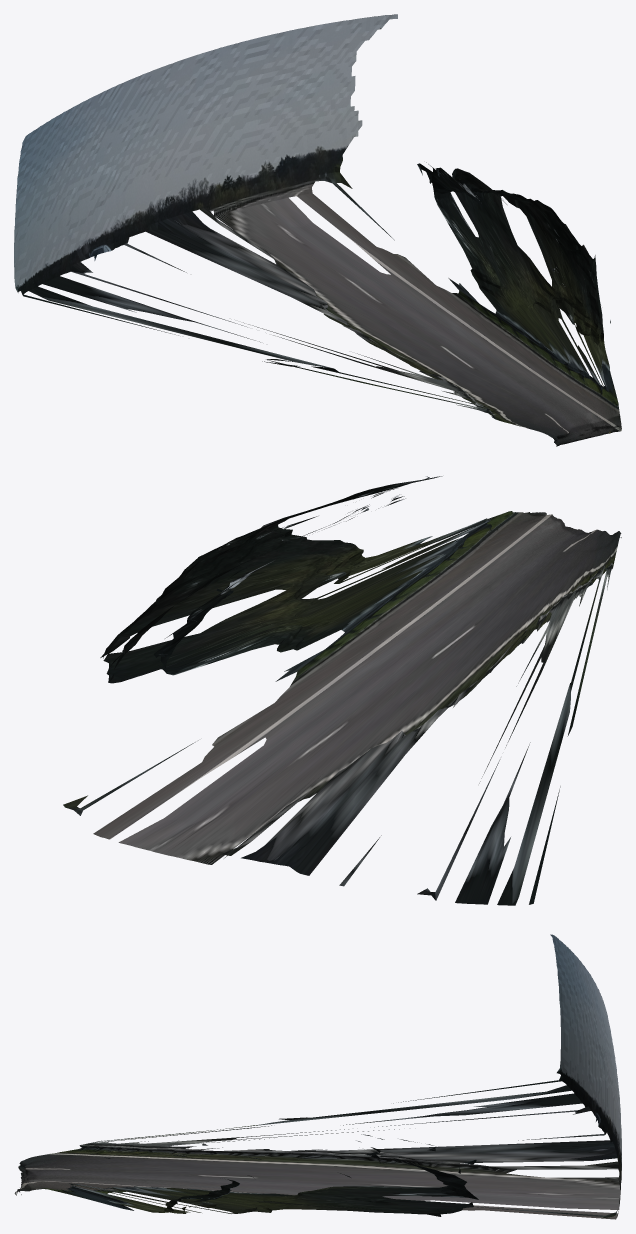
The picture shows the model from 3 angles, top to bottom: view 1: azimuth 30°, elevation 25°; view 2: azimuth 150°, elevation 25°; view 3: azimuth 270°, elevation 25°; orthographic projection. The views are drawn at different scales.
Visible parts, largest first — view 1: defaultobject; view 2: defaultobject; view 3: defaultobject.
Part boxes in pixels (left/top/right/bottom): defaultobject: left=14, top=14, right=621, bottom=446; defaultobject: left=63, top=476, right=621, bottom=905; defaultobject: left=14, top=934, right=621, bottom=1219.
Size of the model in its own units: 31.94 by 12.86 by 44.6.
Materials: 1 (1 with a texture image).
